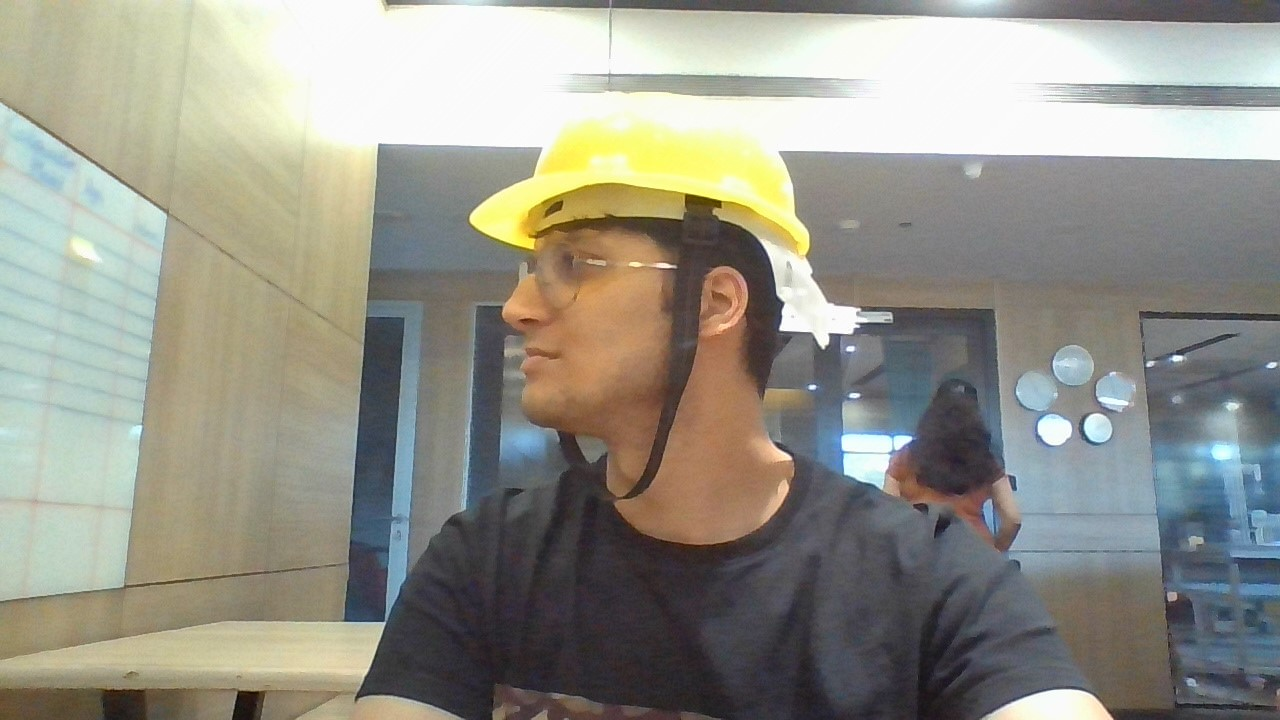Person_wearing_helmet: (471, 77, 833, 332)
